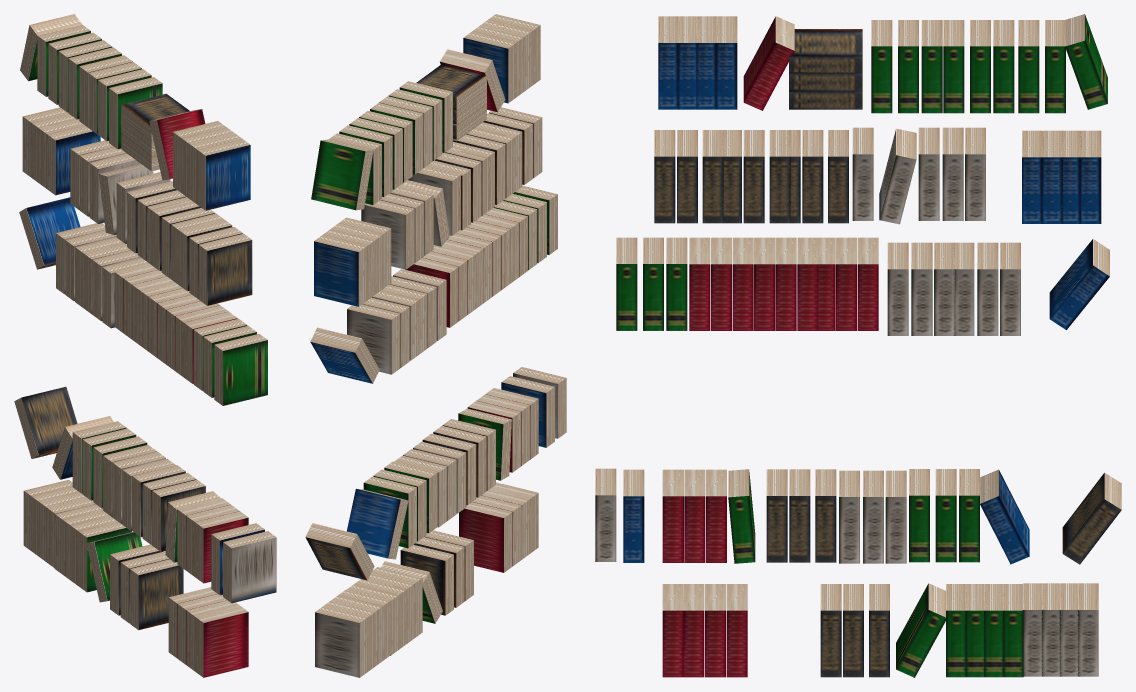
The model's file is books_library.glb.
The picture shows the model from 3 angles, left to right: view 1: azimuth 30°, elevation 25°; view 2: azimuth 150°, elevation 25°; view 3: azimuth 270°, elevation 25°; orthographic projection. The views are drawn at different scales.
Visible parts, largest first — view 1: Cubo.050, Cubo.027, Cubo.031, Cubo.007, Cubo.084, Cubo.026, Cubo.077, Cubo.047, Cubo.062, Cubo.080, Cubo.012, Cubo.074 (+75 smaller); view 2: Cubo.093, Cubo.066, Cubo.065, Cubo.025, Cubo.010, Cubo.046, Cubo.026, Cubo.047, Cubo.057, Cubo.081, Cubo.075, Cubo.079 (+75 smaller); view 3: Cubo.079, Cubo.047, Cubo.026, Cubo.080, Cubo.025, Cubo.074, Cubo.093, Cubo.061, Cubo.015, Cubo.016, Cubo.017, Cubo.018 (+75 smaller).
Part boxes in pixels (x1,y1,x2,y2): Cubo.050: [198, 233, 252, 305]; Cubo.027: [223, 531, 276, 603]; Cubo.031: [214, 334, 267, 405]; Cubo.007: [195, 606, 248, 677]; Cubo.084: [197, 138, 250, 210]; Cubo.026: [14, 386, 77, 458]; Cubo.077: [130, 559, 183, 630]; Cubo.047: [19, 197, 80, 269]; Cubo.062: [46, 125, 100, 195]; Cubo.080: [149, 109, 205, 180]; Cubo.012: [195, 511, 248, 583]; Cubo.074: [87, 532, 142, 602]; Cubo.093: [311, 139, 373, 210]; Cubo.066: [315, 606, 368, 677]; Cubo.065: [314, 235, 367, 306]; Cubo.025: [347, 488, 408, 559]; Cubo.010: [459, 502, 512, 572]; Cubo.046: [347, 304, 400, 374]; Cubo.026: [305, 523, 374, 580]; Cubo.047: [310, 327, 379, 383]; Cubo.057: [361, 200, 414, 269]; Cubo.081: [463, 31, 516, 103]; Cubo.075: [400, 545, 453, 615]; Cubo.079: [416, 65, 486, 111]; Cubo.079: [789, 29, 862, 74]; Cubo.047: [1049, 239, 1109, 329]; Cubo.026: [1062, 472, 1121, 564]; Cubo.080: [743, 16, 794, 110]; Cubo.025: [980, 469, 1029, 564]; Cubo.074: [896, 583, 945, 677]; Cubo.093: [1065, 14, 1107, 109]; Cubo.061: [879, 128, 916, 224]; Cubo.015: [728, 469, 755, 563]; Cubo.016: [766, 469, 787, 562]; Cubo.017: [789, 469, 810, 562]; Cubo.018: [815, 469, 836, 562].
Bounding box in the file's own units: 0.3 × 3.35 × 2.51.
87 materials, 87 textured.
